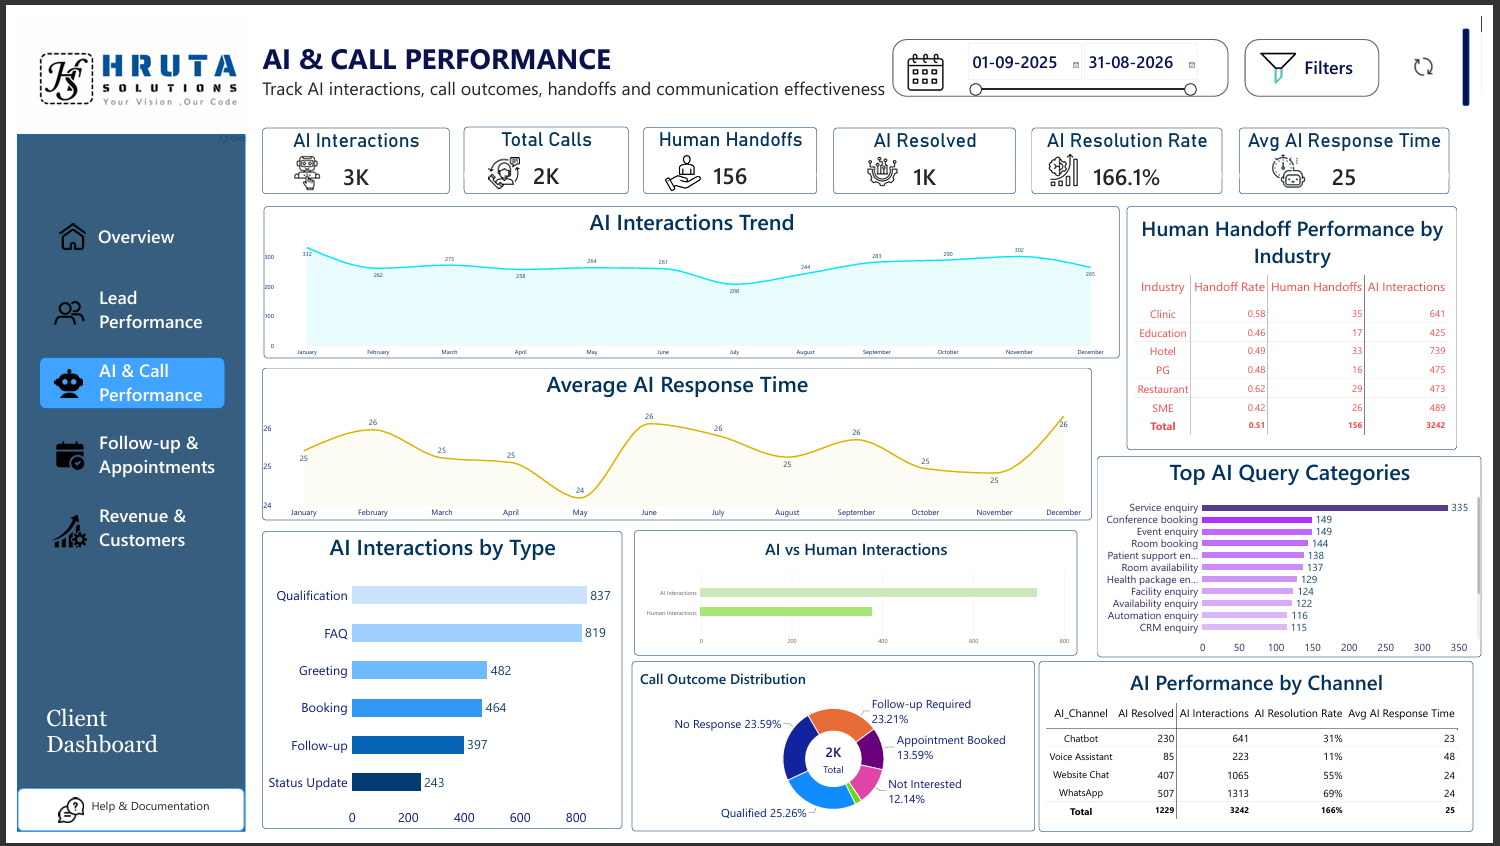

Layout of this report page (visuals, bound fields, positions):
{"tool":"powerbi","page":{"name":"AI & CALL PERFORMANCE ","canvas":[3050,1700],"ordinal":2},"visuals":[{"type":"image","box":[0,0,486,270],"z":0},{"type":"shape","box":[0,246,474,1454],"z":1000},{"type":"textbox","box":[59.8,1435.7,364.6,148.1],"z":2000},{"type":"shape","box":[3010.7,25,14.3,160.7],"z":3000},{"type":"shape","box":[46.4,711,385.6,106.7],"z":4000},{"type":"textbox","box":[40,431.7,373.3,91.7],"z":5000},{"type":"image","box":[71.7,431.7,86.7,55],"z":6000},{"type":"textbox","box":[170,560,288.3,123.3],"z":7000},{"type":"textbox","box":[170,713.3,243.3,106.7],"z":8000},{"type":"textbox","box":[170,863.3,288.3,103.3],"z":9000},{"type":"textbox","box":[170,1015,255,111.7],"z":10000},{"type":"shape","box":[0,1610,473.3,90],"z":11000},{"type":"textbox","box":[112,1630,346,70],"z":12000},{"type":"image","box":[71.7,881.7,75,68.3],"z":13000},{"type":"image","box":[60,1035,95,76.7],"z":14000},{"type":"image","box":[78.3,731.7,60,68.3],"z":15000},{"type":"image","box":[73.3,576.7,70,90],"z":16000},{"type":"image","box":[70,1630,85,53.3],"z":17000},{"type":"textbox","box":[510,46,1550,138],"z":18000},{"type":"shape","box":[1822.9,47.1,700,120],"z":19000},{"type":"shape","box":[2556.7,46.7,280,120],"z":20000},{"type":"textbox","box":[2626.7,80,210,83.3],"z":21000},{"type":"image","box":[2580,70,95,75],"z":22000},{"type":"cardVisual","title":"AI Interactions","fields":{"Data":["AI_Interactions.AI  Interactions"]},"box":[510,231.7,390,138.3],"z":23000},{"type":"cardVisual","title":"Total Calls","fields":{"Data":["AI_Interactions.Total Calls"]},"box":[930,230,343.3,140],"z":24000},{"type":"cardVisual","title":"Human Handoffs","fields":{"Data":["AI_Interactions.Human  Handoffs"]},"box":[1304.3,231.4,361.4,138.6],"z":25000},{"type":"cardVisual","title":"AI Resolved","fields":{"Data":["AI_Interactions.AI Resolved"]},"box":[1700,231.7,380,138.3],"z":26000},{"type":"cardVisual","title":"AI Resolution Rate","fields":{"Data":["AI_Interactions.AI Resolution Rate"]},"box":[2113.3,231.7,396.7,138.3],"z":27000},{"type":"cardVisual","title":"Avg AI Response Time","fields":{"Data":["AI_Interactions.Avg AI Response Time"]},"box":[2545,231.7,438.3,138.3],"z":28000},{"type":"lineChart","title":"AI Interactions Trend","fields":{"Category":["AI_Interactions.Interaction_Date.Variation.Date Hierarchy.Month"],"Y":["AI_Interactions.AI  Interactions"]},"box":[512.5,396.2,1783.8,316.2],"z":29000},{"type":"slicer","fields":{"Values":["Leads.Lead_Date"]},"box":[1973.3,50,486.7,156.7],"z":30000},{"type":"actionButton","box":[2876.7,56.7,106.7,96.7],"z":31000},{"type":"actionButton","box":[2580,70,95,75],"z":32000},{"type":"image","box":[1846,72,92,88],"z":33000},{"type":"image","box":[2601.2,286.2,95,72.5],"z":34000},{"type":"image","box":[2141.7,280,74.1,79.8],"z":35000},{"type":"image","box":[1770,282.5,63.8,80],"z":36000},{"type":"image","box":[1323.3,288.3,126.7,76.7],"z":37000},{"type":"image","box":[967.5,293.8,92.5,65],"z":38000},{"type":"image","box":[552.5,288.8,100,75],"z":39000},{"type":"clusteredBarChart","title":"AI vs Human Interactions","fields":{"Category":["AIHuman.Category"],"Y":["AI_Interactions.AI vs Human Value"]},"box":[1285,1071.7,923.3,261.7],"z":40000},{"type":"donutChart","title":"Call Outcome Distribution","fields":{"Category":["Calls.Call_Outcome"],"Y":["AI_Interactions.Total Calls"]},"box":[1280,1345,840,355],"z":41000},{"type":"lineChart","title":"Average AI Response Time","fields":{"Category":["AI_Interactions.Interaction_Date.Variation.Date Hierarchy.Month"],"Y":["AI_Interactions.Avg AI Response Time"]},"box":[510,732.5,1727.5,318.8],"z":42000},{"type":"pivotTable","title":"AI Performance by Channel","fields":{"Rows":["AI_Interactions.AI_Channel"],"Values":["AI_Interactions.AI Resolved","AI_Interactions.AI  Interactions","AI_Interactions.AI Resolution Rate","AI_Interactions.Avg AI Response Time"]},"box":[2127.5,1345,905.8,356.1],"z":43000},{"type":"clusteredBarChart","title":"AI Interactions by Type","fields":{"Category":["AI_Interactions.Interaction_Type"],"Y":["AI_Interactions.AI  Interactions"]},"box":[510,1073.8,750,621.2],"z":44000},{"type":"clusteredBarChart","title":"Top AI Query Categories","fields":{"Category":["AI_Interactions.Query_Category"],"Y":["AI_Interactions.AI  Interactions"]},"box":[2250,916.7,800,420],"z":45000},{"type":"pivotTable","title":"Human Handoff Performance by Industry","fields":{"Rows":["Leads.Industry"],"Values":["AIHuman.Handoff Rate","AI_Interactions.Human  Handoffs","AI_Interactions.AI  Interactions"]},"box":[2311.2,396.2,687.5,507.5],"z":46000},{"type":"actionButton","box":[45.6,848.9,381.7,133.9],"z":47000},{"type":"actionButton","box":[28.5,401.6,424.4,122.5],"z":48000},{"type":"actionButton","box":[25.6,549.8,424.4,116.8],"z":49000},{"type":"actionButton","box":[22.8,999.8,430.1,128.2],"z":50000}]}

Visuals, with their boxes in screenshot pixels (x1, y1, x2, y2), scaled from the page's 3050x1700 canvas onto the 1500x846 screenshot:
image: crop(0, 0, 239, 134)
shape: crop(0, 122, 233, 845)
textbox: crop(29, 714, 209, 788)
shape: crop(1481, 12, 1488, 92)
shape: crop(23, 354, 212, 407)
textbox: crop(20, 215, 203, 260)
image: crop(35, 215, 78, 242)
textbox: crop(84, 279, 225, 340)
textbox: crop(84, 355, 203, 408)
textbox: crop(84, 430, 225, 481)
textbox: crop(84, 505, 209, 561)
shape: crop(0, 801, 233, 845)
textbox: crop(55, 811, 225, 845)
image: crop(35, 439, 72, 473)
image: crop(30, 515, 76, 553)
image: crop(39, 364, 68, 398)
image: crop(36, 287, 70, 332)
image: crop(34, 811, 76, 838)
textbox: crop(251, 23, 1013, 92)
shape: crop(897, 23, 1241, 83)
shape: crop(1257, 23, 1395, 83)
textbox: crop(1292, 40, 1395, 81)
image: crop(1269, 35, 1316, 72)
"AI Interactions" cardVisual: crop(251, 115, 443, 184)
"Total Calls" cardVisual: crop(457, 114, 626, 184)
"Human Handoffs" cardVisual: crop(641, 115, 819, 184)
"AI Resolved" cardVisual: crop(836, 115, 1023, 184)
"AI Resolution Rate" cardVisual: crop(1039, 115, 1234, 184)
"Avg AI Response Time" cardVisual: crop(1252, 115, 1467, 184)
"AI Interactions Trend" lineChart: crop(252, 197, 1129, 355)
slicer - Leads.Lead_Date: crop(970, 25, 1210, 103)
actionButton: crop(1415, 28, 1467, 76)
actionButton: crop(1269, 35, 1316, 72)
image: crop(908, 36, 953, 80)
image: crop(1279, 142, 1326, 179)
image: crop(1053, 139, 1090, 179)
image: crop(870, 141, 902, 180)
image: crop(651, 143, 713, 182)
image: crop(476, 146, 521, 179)
image: crop(272, 144, 321, 181)
"AI vs Human Interactions" clusteredBarChart: crop(632, 533, 1086, 664)
"Call Outcome Distribution" donutChart: crop(630, 669, 1043, 845)
"Average AI Response Time" lineChart: crop(251, 365, 1100, 523)
"AI Performance by Channel" pivotTable: crop(1046, 669, 1492, 845)
"AI Interactions by Type" clusteredBarChart: crop(251, 534, 620, 844)
"Top AI Query Categories" clusteredBarChart: crop(1107, 456, 1499, 665)
"Human Handoff Performance by Industry" pivotTable: crop(1137, 197, 1475, 450)
actionButton: crop(22, 422, 210, 489)
actionButton: crop(14, 200, 223, 261)
actionButton: crop(13, 274, 221, 332)
actionButton: crop(11, 498, 223, 561)
